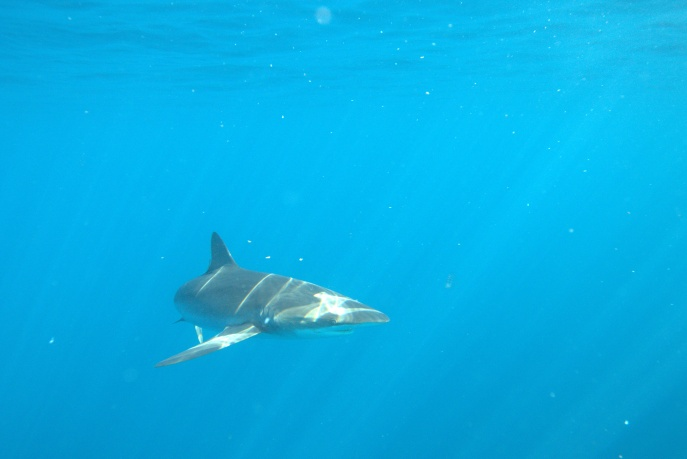Sedoso: (132, 226, 401, 382)
